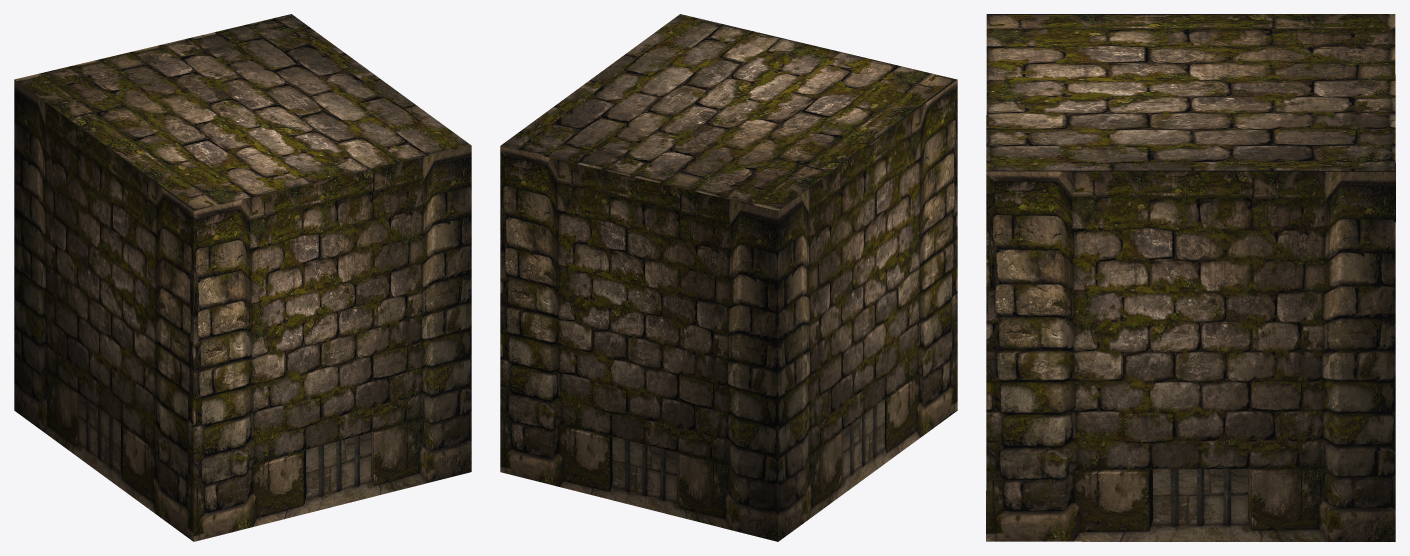
Rendered from wall.glb.
3 renders of one model, left to right at view 1: azimuth 30°, elevation 25°; view 2: azimuth 150°, elevation 25°; view 3: azimuth 270°, elevation 25°, orthographic. The views are drawn at different scales.
Parts seen in each view (by area): view 1: 立方体; view 2: 立方体; view 3: 立方体.
Boxes of the visible parts, x1,y1,x2,y2 form: 立方体: [14, 14, 471, 541]; 立方体: [500, 14, 957, 541]; 立方体: [986, 14, 1395, 541].
Size of the model in its own units: 6.08 by 6.93 by 6.83.
Materials: 1 (1 with a texture image).
